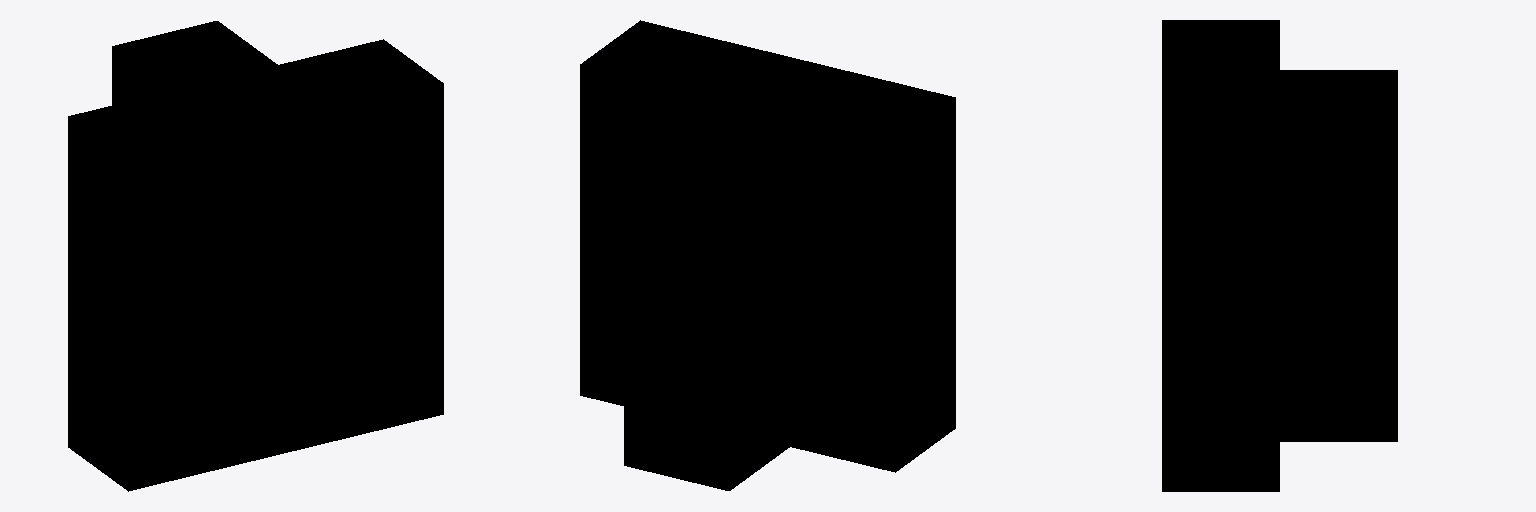
URDF robot description (cf2):
<?xml version="1.0" encoding="utf-8"?>

<robot xmlns:xacro="http://www.ros.org/wiki/xacro" name="cf2">
    <link name="base_link">
        <visual name='v1'>
            <origin rpy="0 0 0" xyz="0 0 0"/>
            <geometry>
                <box size="3.0 1.0 3.0"/>
            </geometry>
            <material name="black">
                <color rgba=".0 .0 .0 1"/>
            </material>
        </visual>
        <visual name='v2'>
            <origin rpy="0 0 0" xyz="0 1 0"/>
            <geometry>
                <box size="1.0 1.0 3.0"/>
            </geometry>
            <material name="black">
                <color rgba=".0 .0 .0 1"/>
            </material>
        </visual>
    </link>
</robot>

--- Facts derived from the render (not from the file) ---
3 views of the same robot in one strip: view 1: azimuth 30°, elevation 25°; view 2: azimuth 150°, elevation 25°; view 3: azimuth 270°, elevation 25° (orthographic).
Model cf2 with 1 links and 0 joints (none), rooted at base_link, posed all joints at 0.
Links seen in each view (by area): view 1: base_link; view 2: base_link; view 3: base_link.
Boxes of the visible links, <box> form: base_link: <box>68,21,443,491</box>; base_link: <box>580,20,955,490</box>; base_link: <box>1162,20,1397,491</box>.
Bounding box of the posed robot: 3 × 2 × 3 m (x, y, z).
Geometry: primitives only (box / cylinder / sphere), no mesh files.
